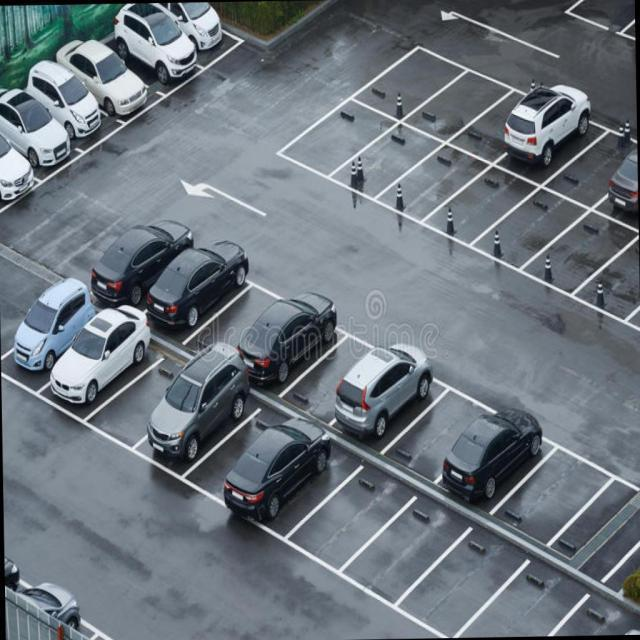space-empty: (413, 534, 501, 631), (362, 498, 447, 596), (396, 387, 490, 472), (192, 404, 275, 500), (194, 276, 284, 364), (308, 469, 393, 561), (104, 352, 185, 448), (513, 448, 605, 532), (417, 63, 508, 138), (298, 331, 378, 414), (291, 96, 369, 180), (470, 565, 562, 634), (564, 480, 640, 563), (368, 41, 448, 115), (532, 602, 634, 638)
space-occupied: (156, 366, 250, 482), (241, 426, 328, 536), (448, 410, 547, 503), (57, 312, 141, 418), (159, 240, 255, 332), (526, 209, 604, 322), (248, 298, 338, 394), (476, 185, 554, 294), (430, 162, 508, 265), (340, 354, 435, 438), (572, 233, 640, 350), (100, 222, 191, 304), (503, 100, 596, 178), (10, 290, 84, 387), (376, 139, 462, 218), (555, 117, 635, 201), (107, 29, 202, 96), (68, 54, 164, 120), (467, 78, 548, 156), (334, 122, 416, 195), (32, 85, 117, 150), (158, 1, 243, 63), (0, 106, 69, 176), (0, 136, 34, 212), (610, 134, 638, 224)
